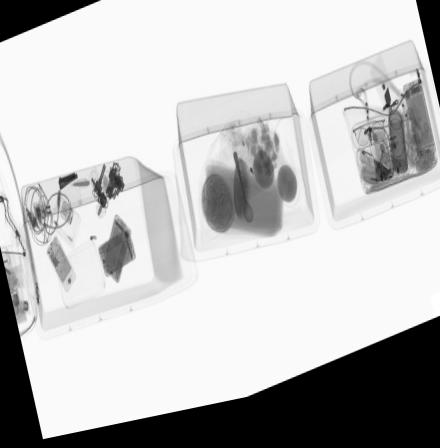Knife: (58, 173, 79, 193), (72, 184, 90, 191)
